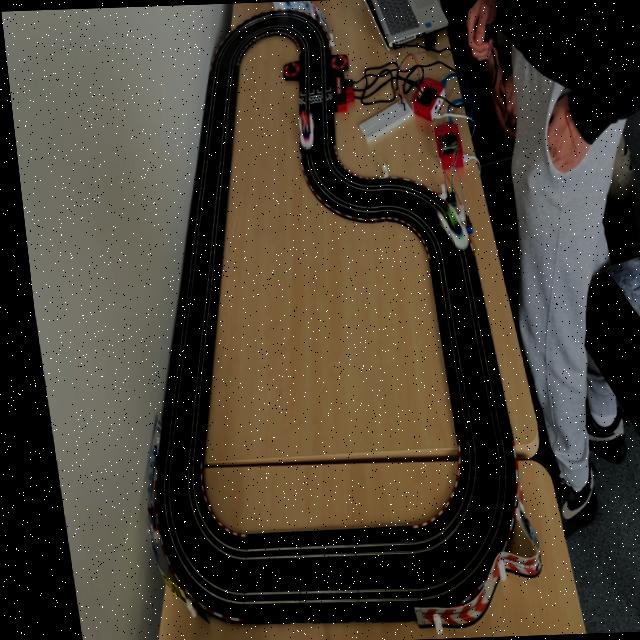mario: (292, 110, 314, 153)
yoshi: (428, 203, 465, 252)
